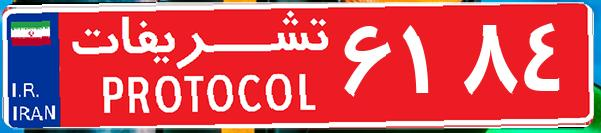1: (400, 20, 460, 115)
4: (520, 20, 580, 115)
6: (340, 20, 400, 115)
8: (460, 20, 520, 115)
تشریفات: (60, 8, 340, 125)
